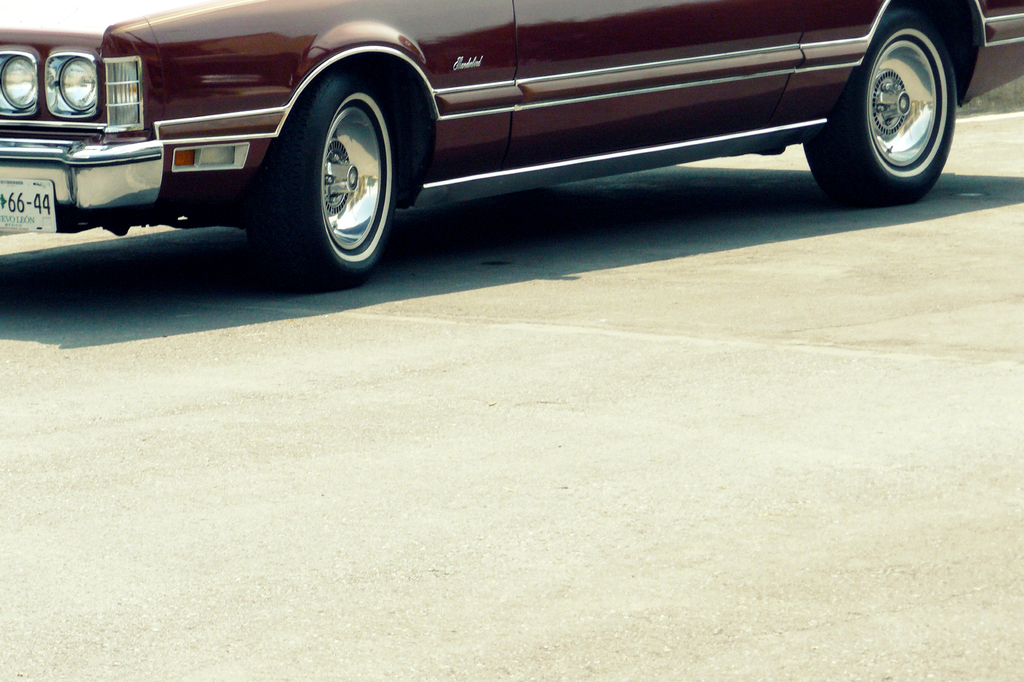Car: (0, 0, 1023, 293)
